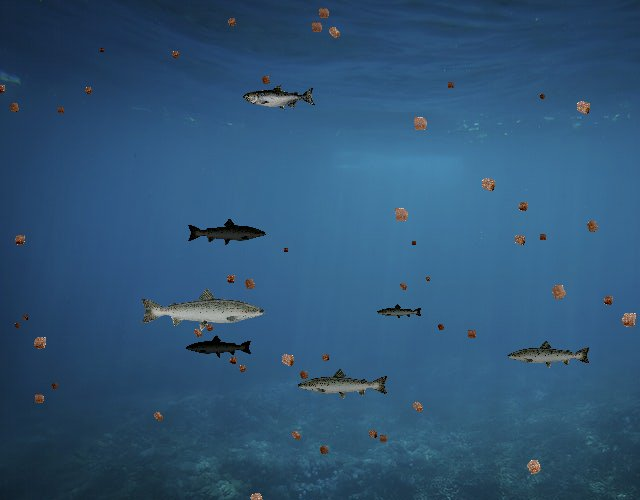Fish: (138, 286, 267, 332), (297, 368, 391, 402), (506, 339, 592, 370), (186, 218, 267, 247), (243, 84, 316, 111), (186, 335, 254, 359), (376, 304, 423, 321)
Pellet: (614, 304, 640, 334), (274, 347, 301, 374), (322, 20, 346, 44), (4, 98, 25, 119), (242, 486, 270, 500), (222, 12, 241, 31), (80, 82, 96, 98), (536, 90, 549, 103), (19, 311, 31, 323)
